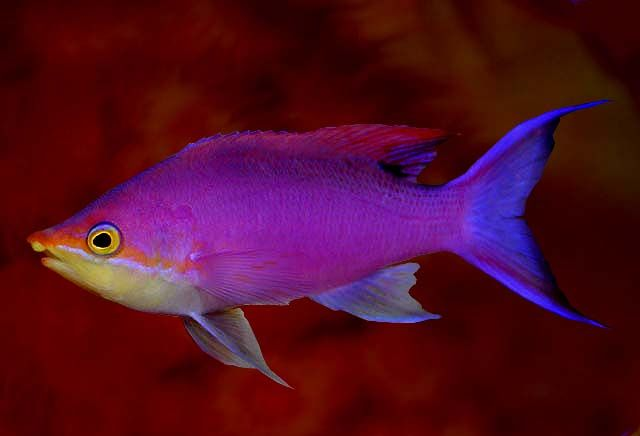fish: (26, 98, 613, 392)
